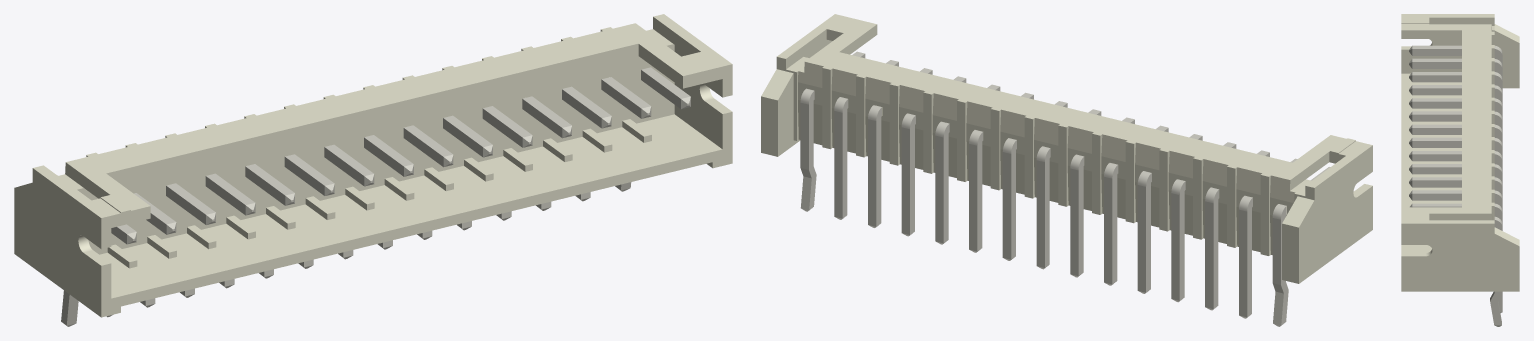
File: kc-jst_ph_s15b-ph-k_1x15_p2.00mm_horizontal.glb
3 renders of one model, left to right at view 1: azimuth 30°, elevation 25°; view 2: azimuth 150°, elevation 25°; view 3: azimuth 270°, elevation 25°, orthographic. The views are drawn at different scales.
Visible parts, largest first — view 1: 0.75_0.75_0.5833333333333334_0, 0.6666666666666666_0.6666666666666666_0.5833333333333334_0.8; view 2: 0.75_0.75_0.5833333333333334_0, 0.6666666666666666_0.6666666666666666_0.5833333333333334_0.8; view 3: 0.75_0.75_0.5833333333333334_0, 0.6666666666666666_0.6666666666666666_0.5833333333333334_0.8.
Part boxes in pixels (<box>): 0.75_0.75_0.5833333333333334_0: <box>14,14,732,317</box>; 0.6666666666666666_0.6666666666666666_0.5833333333333334_0.8: <box>61,67,690,326</box>; 0.75_0.75_0.5833333333333334_0: <box>761,14,1372,283</box>; 0.6666666666666666_0.6666666666666666_0.5833333333333334_0.8: <box>800,51,1330,326</box>; 0.75_0.75_0.5833333333333334_0: <box>1401,14,1519,291</box>; 0.6666666666666666_0.6666666666666666_0.5833333333333334_0.8: <box>1409,45,1502,326</box>.
Bounding box in the file's own units: 3.19 × 0.8249 × 0.7598.
